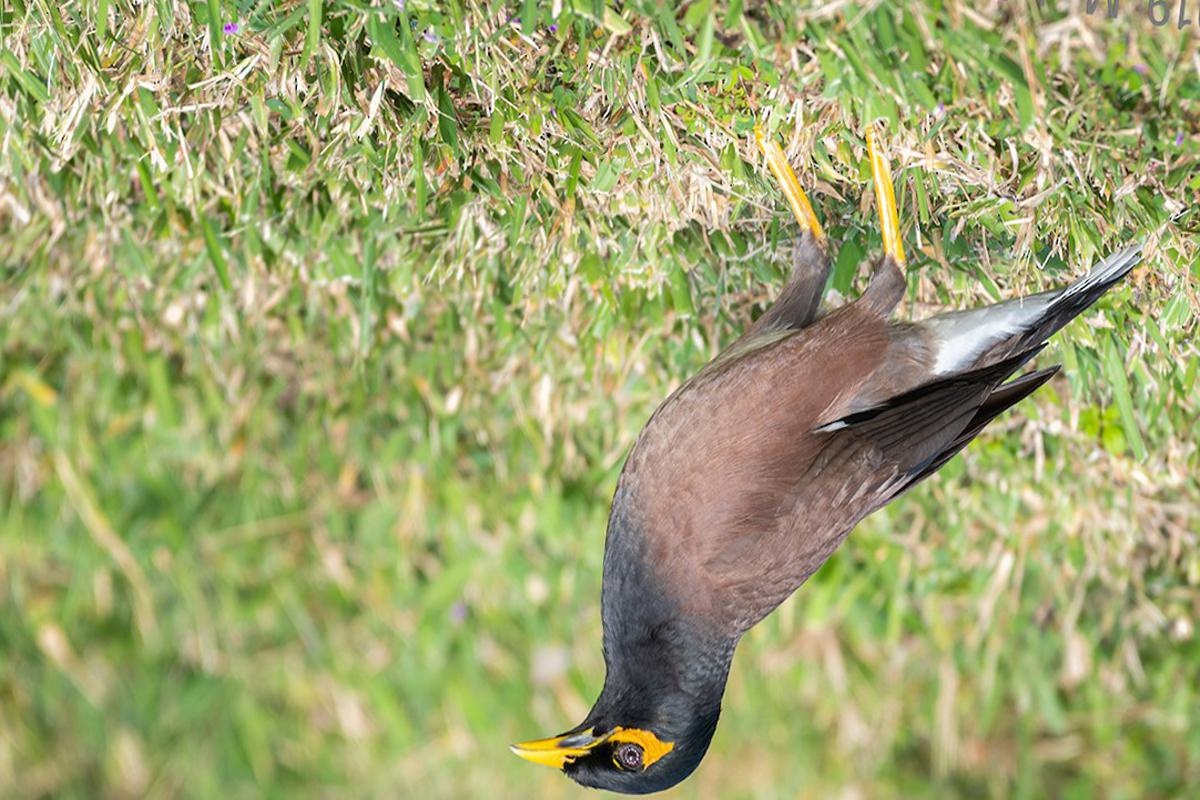myna: (500, 192, 1063, 792)
